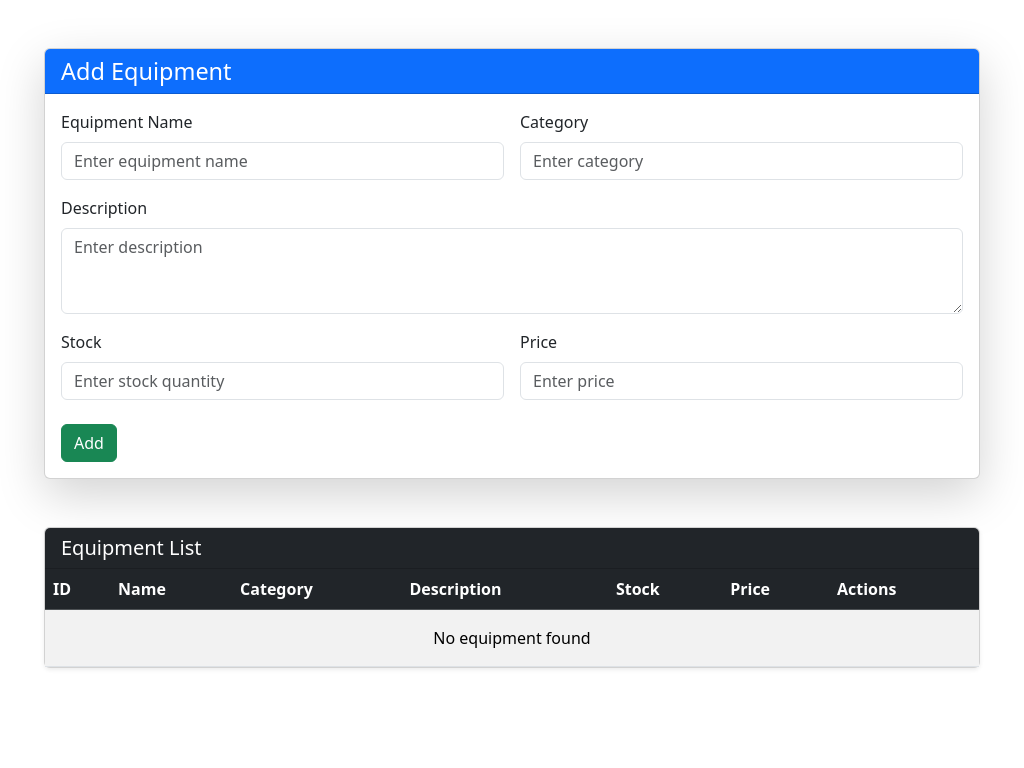
it: EquipmentForm › 6. shows validation error if price exceeds 100000
Type "200000" into the number field with placeholder "Enter price" at (742, 381), box [520,362,963,400]
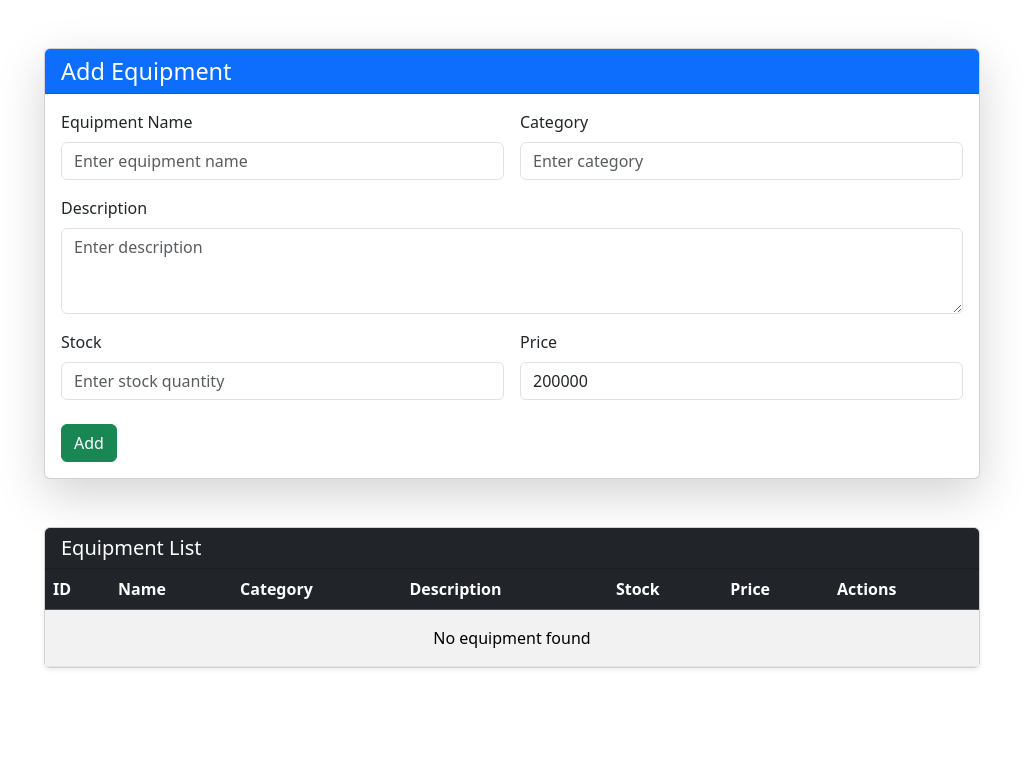
Click the button "Add" at (89, 443), box [61,424,117,462]
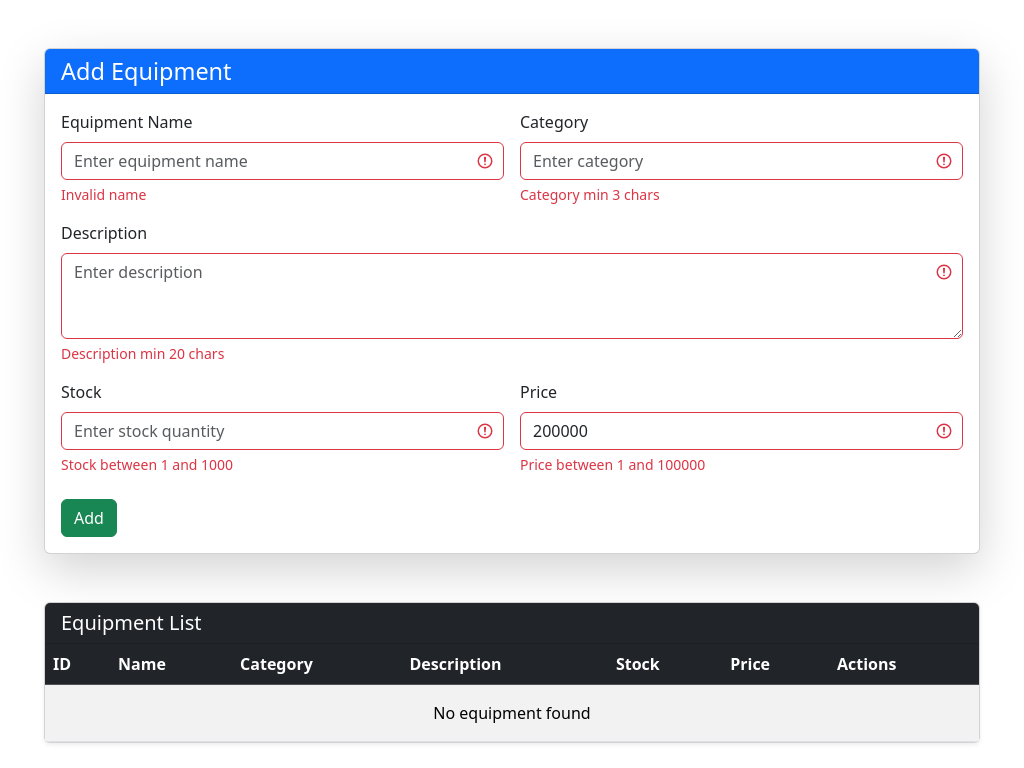
Now the text "Price between 1 and 100000" is shown, box [520,455,705,474]
